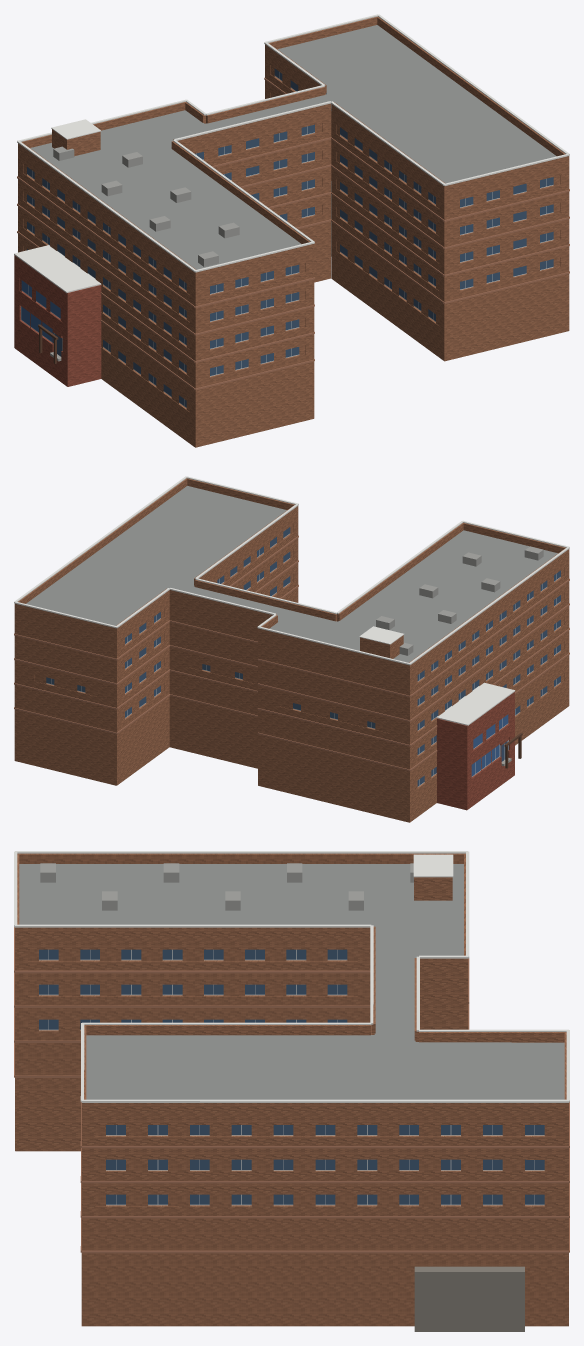
3 renders of one model, top to bottom at view 1: azimuth 30°, elevation 25°; view 2: azimuth 150°, elevation 25°; view 3: azimuth 270°, elevation 25°, orthographic. The views are drawn at different scales.
Visible parts, largest first — view 1: osm759074761__brick-wall, osm759074761__roof, osm759074761__glass, osm759074761__trim, osm759074761__pavilion-brick-wall, osm759074761__brick-band, osm759074761__frame, osm759074761__ac, osm759074761__blue-glass; view 2: osm759074761__brick-wall, osm759074761__roof, osm759074761__trim, osm759074761__pavilion-brick-wall, osm759074761__brick-band, osm759074761__glass, osm759074761__ac, osm759074761__frame, osm759074761__blue-glass; view 3: osm759074761__brick-wall, osm759074761__roof, osm759074761__glass, osm759074761__brick-band, osm759074761__trim, osm759074761__stone-wall, osm759074761__frame, osm759074761__ac.
Boxes of the visible parts, x1,y1,x2,y2 form: osm759074761__brick-wall: (18,16,569,447); osm759074761__roof: (30,25,556,269); osm759074761__glass: (27,68,553,407); osm759074761__trim: (14,14,569,292); osm759074761__pavilion-brick-wall: (14,255,101,386); osm759074761__brick-band: (17,77,569,390); osm759074761__frame: (21,72,553,407); osm759074761__ac: (53,146,239,266); osm759074761__blue-glass: (21,280,60,342); osm759074761__brick-wall: (14,478,569,822); osm759074761__roof: (26,486,557,662); osm759074761__trim: (14,476,569,725); osm759074761__pavilion-brick-wall: (436,692,514,810); osm759074761__brick-band: (14,535,569,770); osm759074761__glass: (46,527,560,786); osm759074761__ac: (376,546,543,655); osm759074761__frame: (46,533,560,786); osm759074761__blue-glass: (471,714,508,776); osm759074761__brick-wall: (15,853,568,1326); osm759074761__roof: (19,864,564,1099); osm759074761__glass: (39,949,544,1204); osm759074761__brick-band: (14,927,569,1253); osm759074761__trim: (14,851,569,1102); osm759074761__stone-wall: (414,1266,524,1331); osm759074761__frame: (39,949,544,1205); osm759074761__ac: (40,863,413,910).
Size of the model in its own units: 60.63 by 24.02 by 50.51.
Materials: 14 (2 with a texture image).
